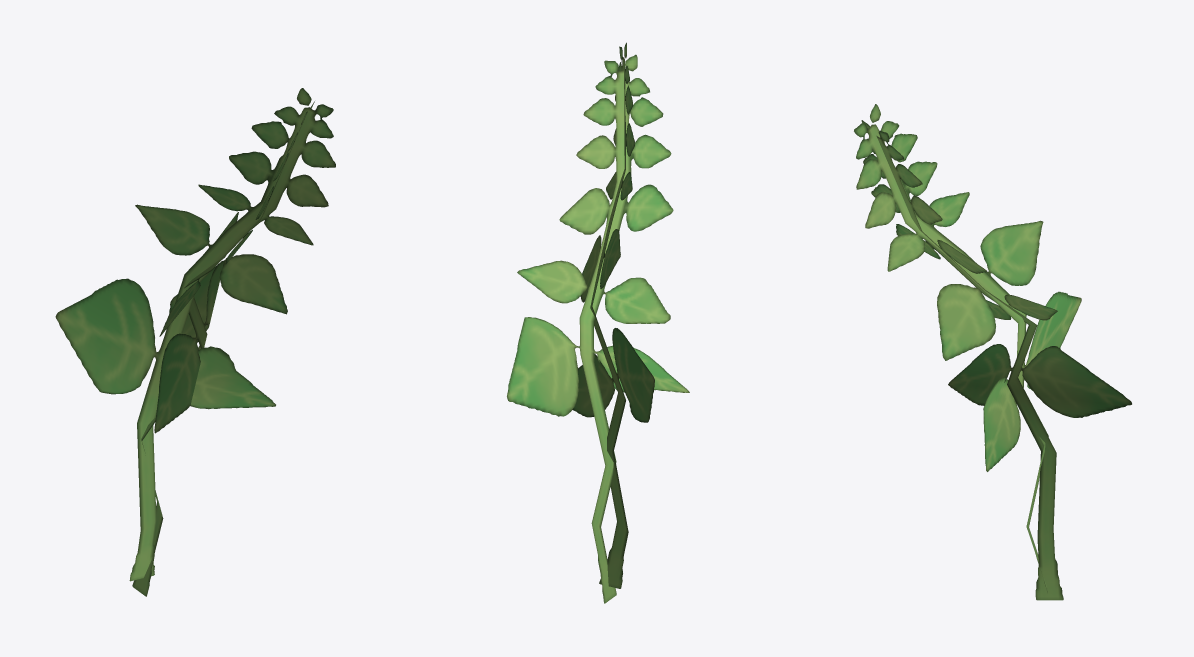
File: LeafSetB_12.fbx
The picture shows the model from 3 angles, left to right: view 1: azimuth 30°, elevation 25°; view 2: azimuth 150°, elevation 25°; view 3: azimuth 270°, elevation 25°; orthographic projection. The views are drawn at different scales.
Parts seen in each view (by area): view 1: LeafSetB_12; view 2: LeafSetB_12; view 3: LeafSetB_12.
Boxes of the visible parts, x1=… form: LeafSetB_12: x1=55, y1=88, x2=335, y2=596; LeafSetB_12: x1=507, y1=42, x2=689, y2=603; LeafSetB_12: x1=854, y1=104, x2=1131, y2=600.
Bounding box in the file's own units: 0.3586 × 0.7283 × 0.4585.
